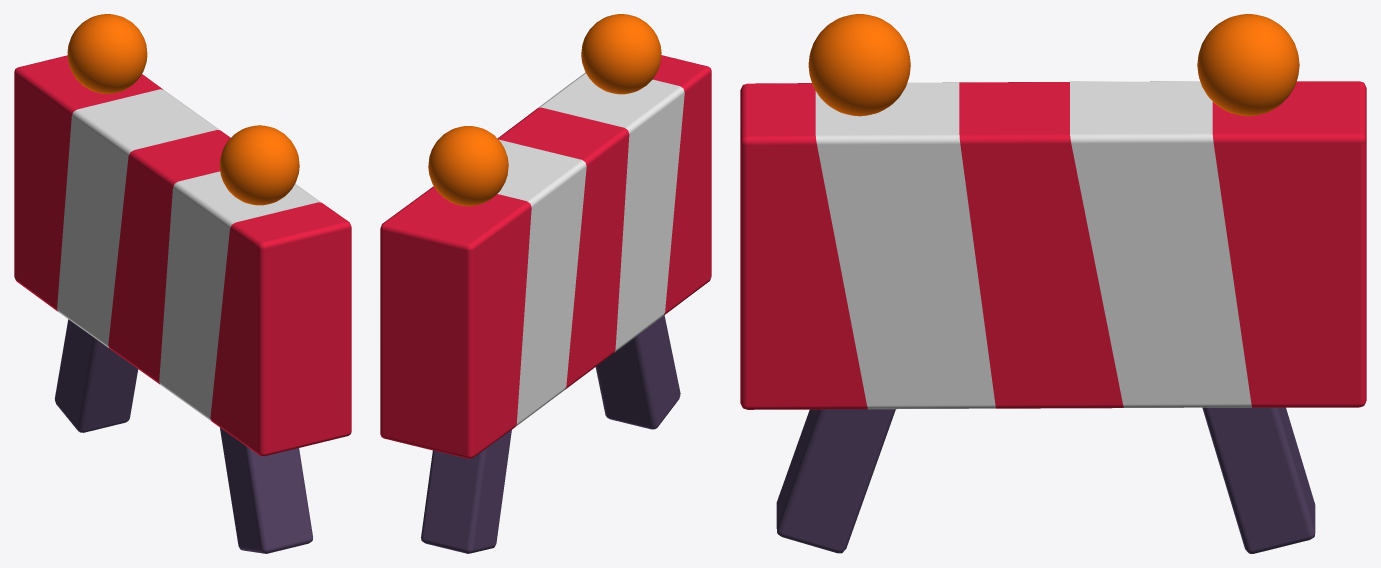
The model's file is Barier.fbx.
3 views of the same model, side by side, from view 1: azimuth 30°, elevation 25°; view 2: azimuth 150°, elevation 25°; view 3: azimuth 270°, elevation 25° (orthographic). The views are drawn at different scales.
Visible parts, largest first — view 1: Cube.035; view 2: Cube.035; view 3: Cube.035.
Boxes of the visible parts, x1,y1,x2,y2 form: Cube.035: (14, 14, 351, 553); Cube.035: (380, 14, 711, 553); Cube.035: (740, 14, 1366, 553).
Bounding box in the file's own units: 48.8 × 197 × 214.
